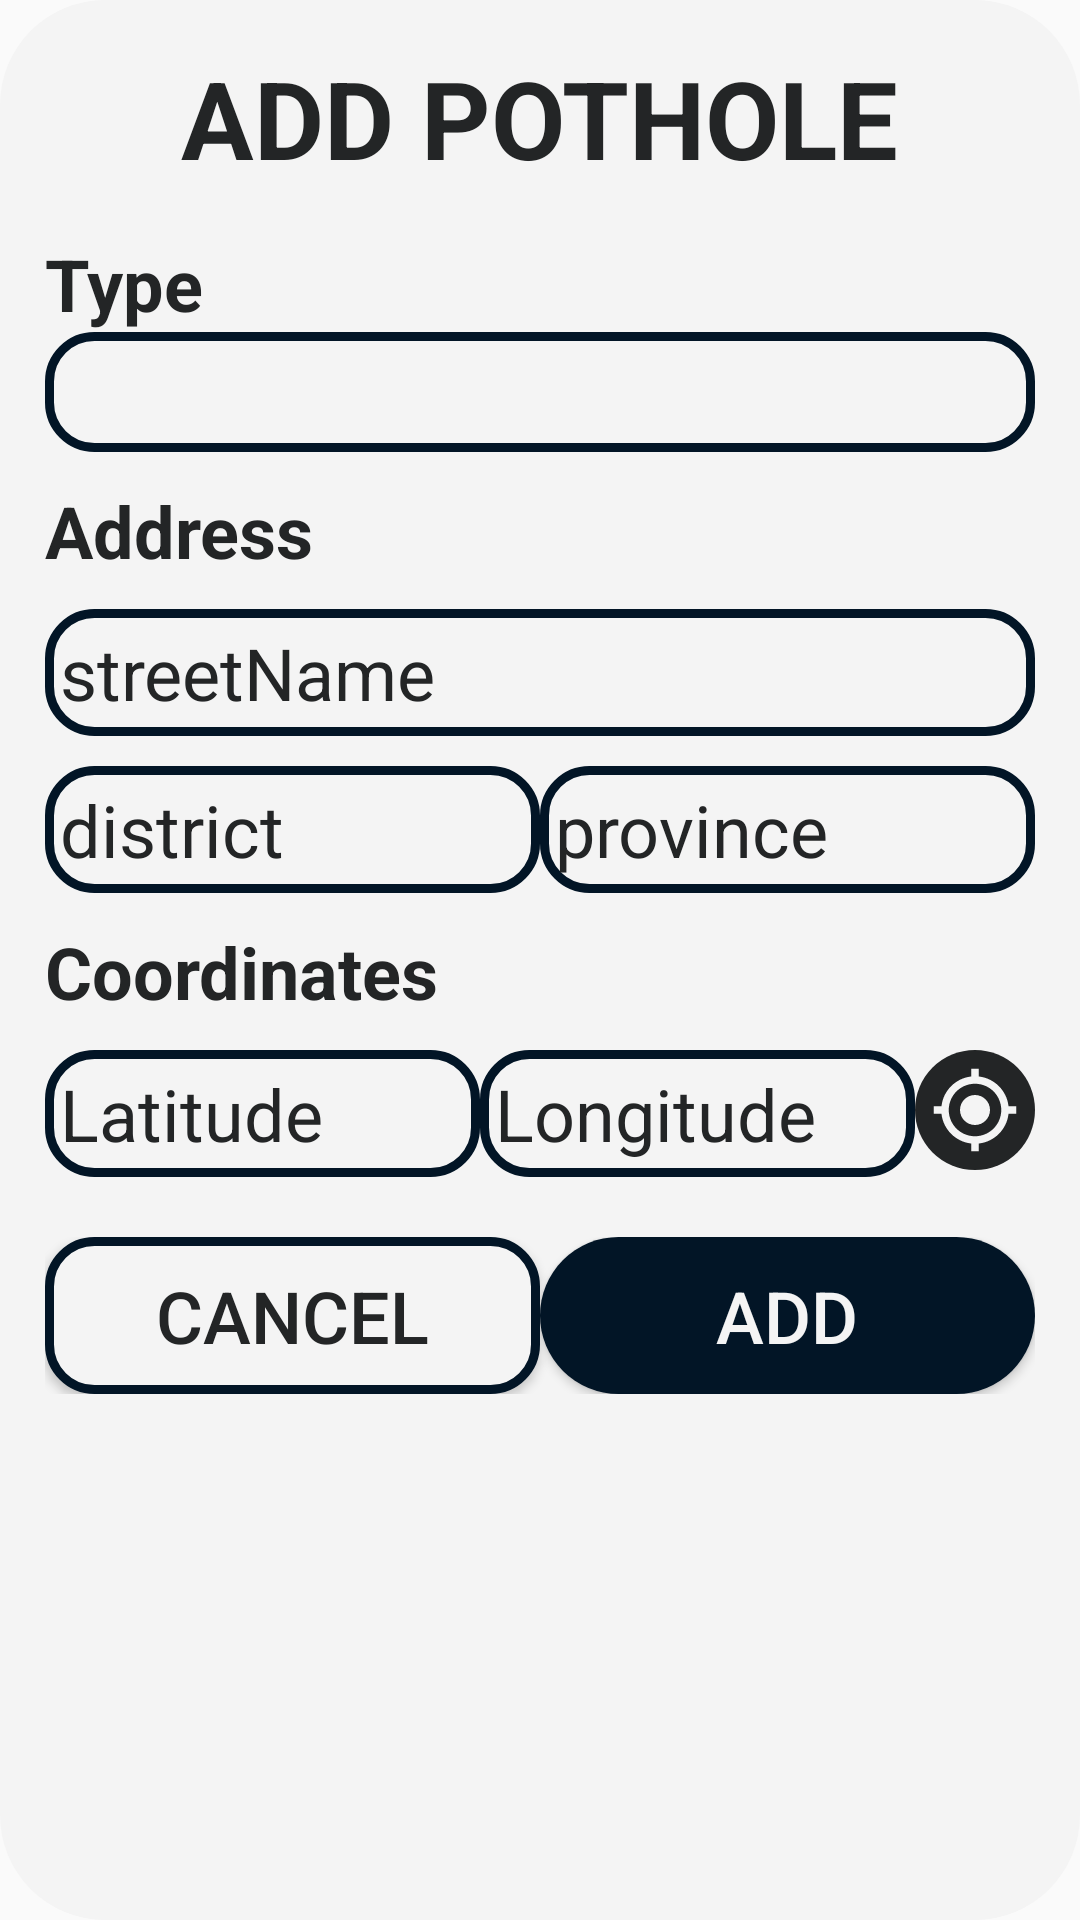

Named icons in this screenshot (1080px×1920px) and their centers, (x=x, y=y):
location: (x=975, y=1110)
